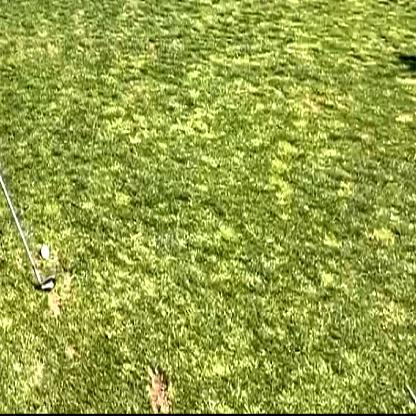ClubHead: (40, 240, 52, 264)
GolfBall: (32, 266, 59, 296)
